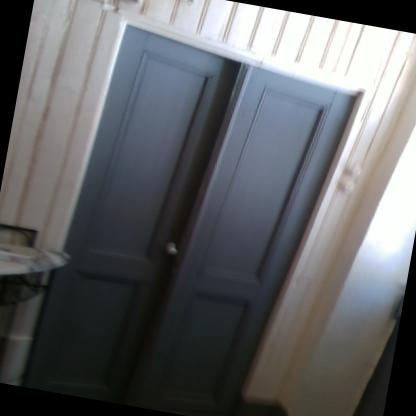closed: (36, 4, 379, 415)
